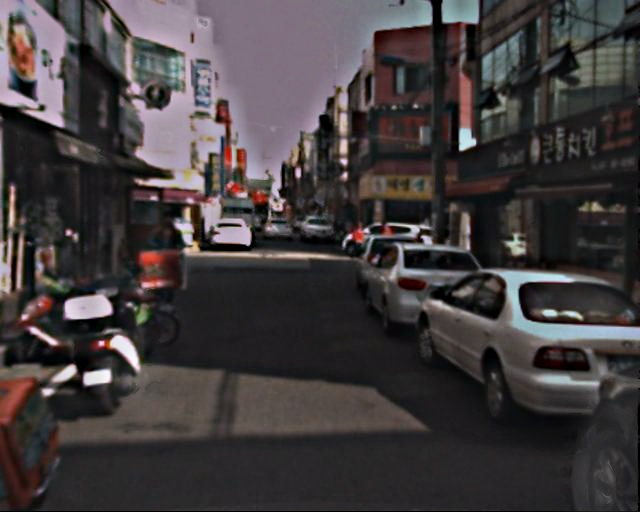person: (146, 211, 192, 310), (376, 220, 396, 269), (349, 220, 367, 265)
